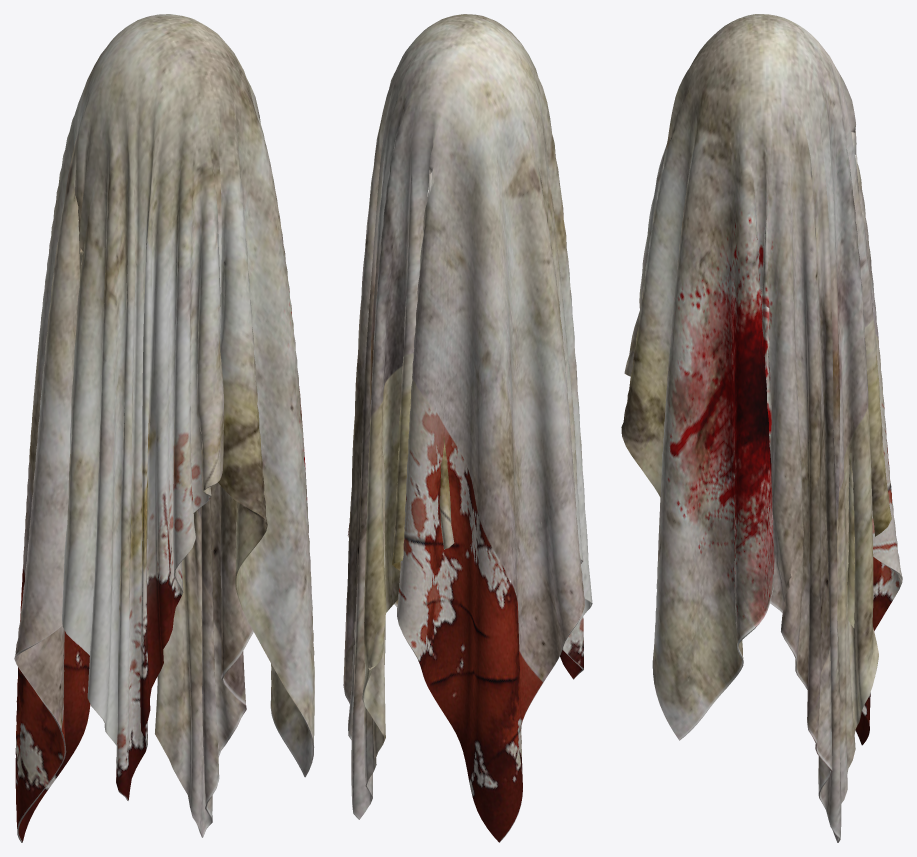
The model's file is light.obj.
The picture shows the model from 3 angles, left to right: view 1: azimuth 30°, elevation 25°; view 2: azimuth 150°, elevation 25°; view 3: azimuth 270°, elevation 25°; orthographic projection. The views are drawn at different scales.
Parts seen in each view (by area): view 1: Plane003_Material_#2_0; view 2: Plane003_Material_#2_0; view 3: Plane003_Material_#2_0.
Part boxes in pixels (x1=…): Plane003_Material_#2_0: x1=14, y1=14, x2=314, y2=842; Plane003_Material_#2_0: x1=343, y1=14, x2=592, y2=842; Plane003_Material_#2_0: x1=621, y1=14, x2=902, y2=842.
Size of the model in its own units: 1.29 by 3.86 by 1.25.
